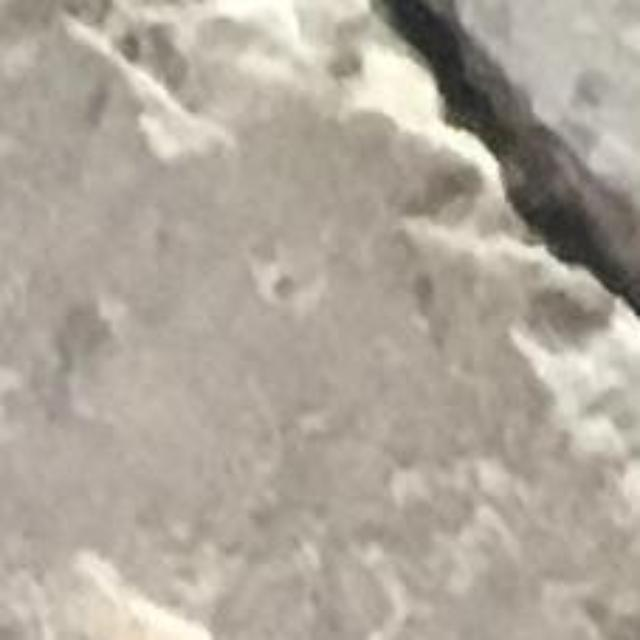crack: (373, 0, 639, 315)
